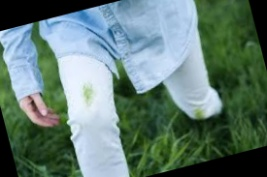earth: (82, 83, 97, 106), (191, 106, 206, 119)
